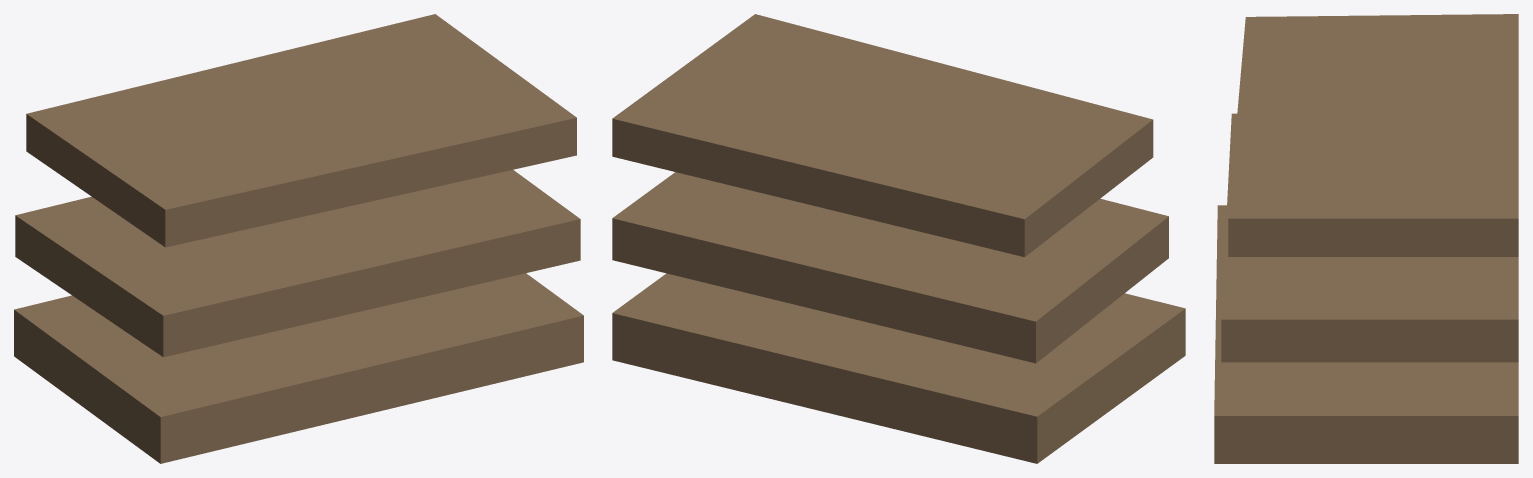
The model's file is HokageRock_HokageRockDark.fbx.
3 views of the same model, side by side, from view 1: azimuth 30°, elevation 25°; view 2: azimuth 150°, elevation 25°; view 3: azimuth 270°, elevation 25° (orthographic). The views are drawn at different scales.
Visible parts, largest first — view 1: Cliff1.001; view 2: Cliff1.001; view 3: Cliff1.001.
Part boxes in pixels (bbox=[...]): Cliff1.001: bbox=[14, 14, 583, 463]; Cliff1.001: bbox=[612, 14, 1185, 463]; Cliff1.001: bbox=[1214, 14, 1518, 463].
Size of the model in its own units: 10691 by 5803 by 6525.
